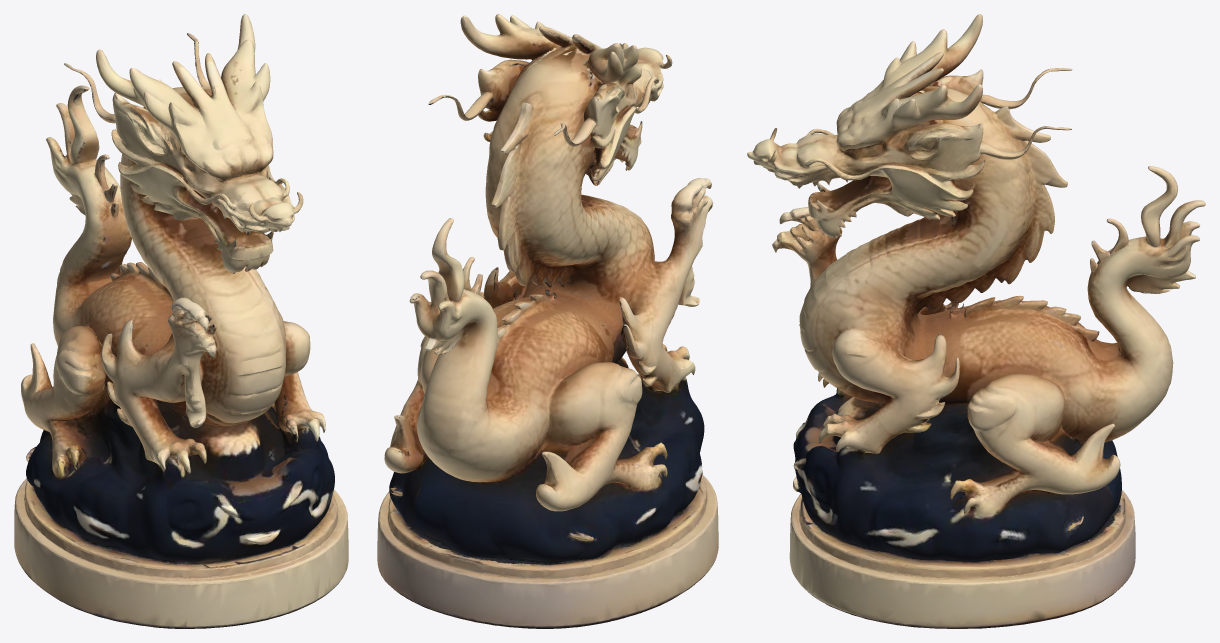
File: knight_black.glb
3 renders of one model, left to right at view 1: azimuth 30°, elevation 25°; view 2: azimuth 150°, elevation 25°; view 3: azimuth 270°, elevation 25°, orthographic. The views are drawn at different scales.
Parts seen in each view (by area): view 1: model; view 2: model; view 3: model.
Part boxes in pixels (bbox=[...]): model: bbox=[14, 14, 348, 628]; model: bbox=[377, 14, 718, 628]; model: bbox=[747, 14, 1205, 628].
Bounding box in the file's own units: 1.07 × 1.9 × 1.54.
Materials: 1 (1 with a texture image).
